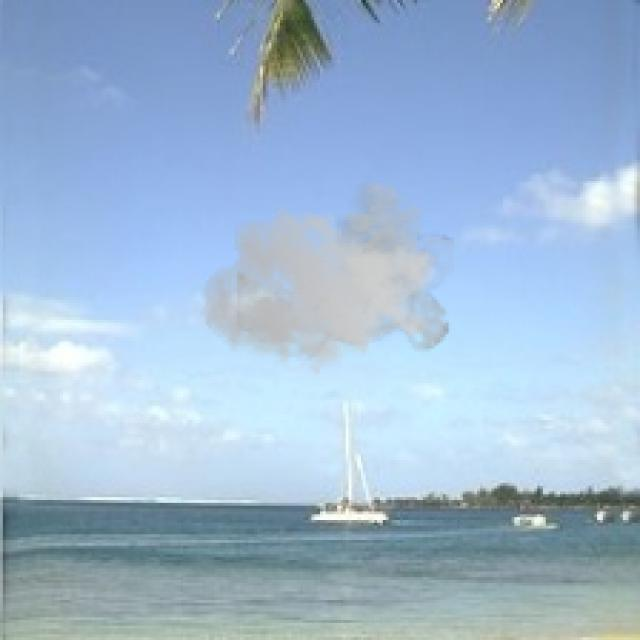Smoke: (200, 183, 454, 386)
